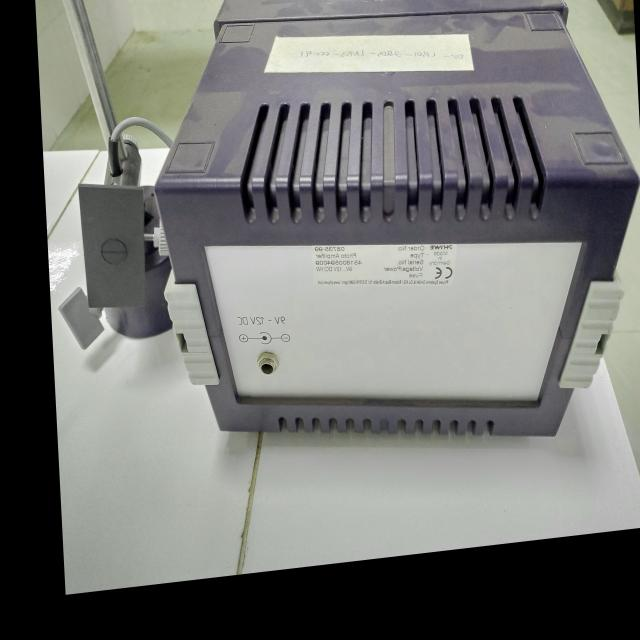Photo Amplifier Power Supply: (79, 0, 640, 506)
